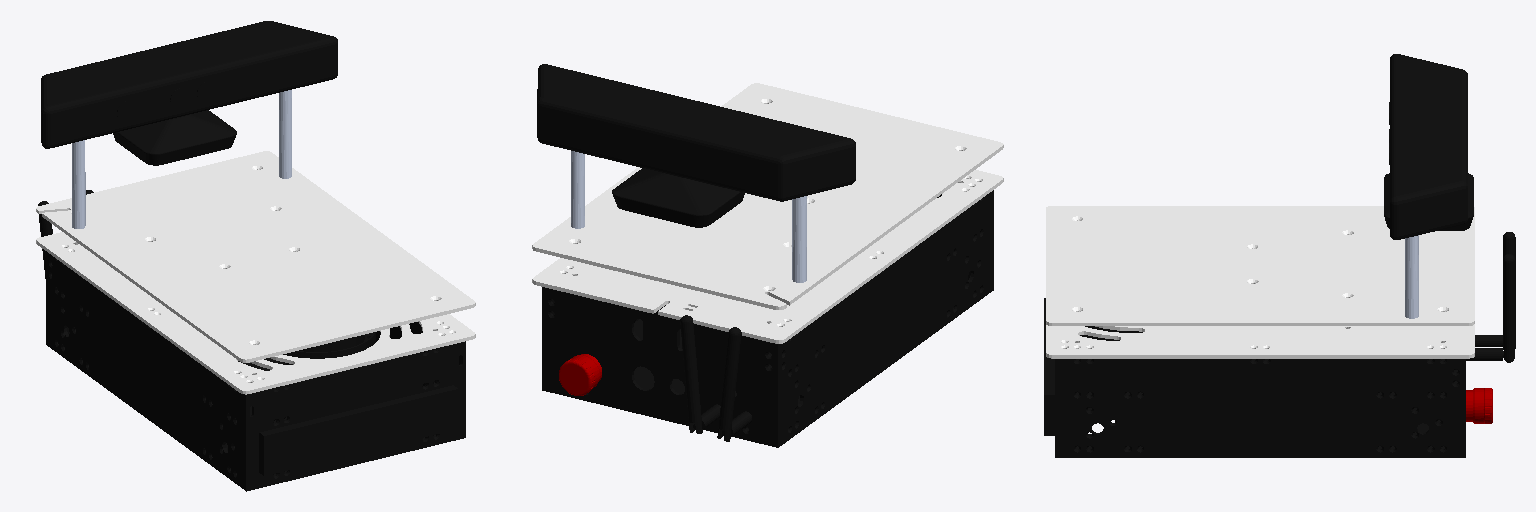
URDF robot description (mecanumbot):
<robot
  name="mecanumbot">
  <link
    name="base_link">
    <inertial>
      <origin
        xyz="-0.0468302529926084 -0.0134185737759999 -0.0824261310140349"
        rpy="0 0 0" />
      <mass
        value="0.963214943605585" />
      <inertia
        ixx="0.0134647040144989"
        ixy="-0.000265463820446584"
        ixz="-2.78747068323768E-05"
        iyy="0.00653225014173843"
        iyz="8.21292306097245E-05"
        izz="0.0182974601808885" />
    </inertial>
    <visual>
      <origin
        xyz="0 0 0"
        rpy="0 0 0" />
      <geometry>
        <mesh
          filename="package://mecanumbot/description/base_link.STL" />
      </geometry>
      <material
        name="">
        <color
          rgba="0.0980392156862745 0.0980392156862745 0.0980392156862745 1" />
      </material>
    </visual>
    <collision>
      <origin
        xyz="0 0 0"
        rpy="0 0 0" />
      <geometry>
        <mesh
          filename="package://mecanumbot/description/base_link.STL" />
      </geometry>
    </collision>
  </link>
  <link
    name="fl_wheel_link">
    <inertial>
      <origin
        xyz="0.02108 -8.5029E-07 3.7806E-05"
        rpy="0 0 0" />
      <mass
        value="0.33461" />
      <inertia
        ixx="0.00031908"
        ixy="4.8609E-07"
        ixz="2.8449E-07"
        iyy="0.0002658"
        iyz="-4.3138E-07"
        izz="0.00026633" />
    </inertial>
    <visual>
      <origin
        xyz="0 0 0"
        rpy="0 0 0" />
      <geometry>
        <mesh
          filename="package://mecanumbot/description/fl_wheel_link.STL" />
      </geometry>
      <material
        name="">
        <color
          rgba="0.5 0.5 0.5 1" />
      </material>
    </visual>
    <collision>
      <origin
        xyz="0 0 0"
        rpy="0 0 0" />
      <geometry>
        <mesh
          filename="package://mecanumbot/description/fl_wheel_link.STL" />
      </geometry>
    </collision>
  </link>
  <joint
    name="base_link_to_fl_wheel_joint"
    type="continuous">
    <origin
      xyz="0.0788531486544269 -0.147251192141458 -0.0851412158001636"
      rpy="1.5707963267949 0 0" />
    <parent
      link="base_link" />
    <child
      link="fl_wheel_link" />
    <axis
      xyz="-1 0 0" />
  </joint>
  <link
    name="fr_wheel_link">
    <inertial>
      <origin
        xyz="0.021164 5.4602E-06 -1.1653E-05"
        rpy="0 0 0" />
      <mass
        value="0.33461" />
      <inertia
        ixx="0.00031906"
        ixy="-1.3078E-07"
        ixz="9.0598E-08"
        iyy="0.00026623"
        iyz="2.618E-08"
        izz="0.00026621" />
    </inertial>
    <visual>
      <origin
        xyz="0 0 0"
        rpy="0 0 0" />
      <geometry>
        <mesh
          filename="package://mecanumbot/description/fr_wheel_link.STL" />
      </geometry>
      <material
        name="">
        <color
          rgba="0.5 0.5 0.5 1" />
      </material>
    </visual>
    <collision>
      <origin
        xyz="0 0 0"
        rpy="0 0 0" />
      <geometry>
        <mesh
          filename="package://mecanumbot/description/fr_wheel_link.STL" />
      </geometry>
    </collision>
  </link>
  <joint
    name="base_link_to_fr_wheel_joint"
    type="continuous">
    <origin
      xyz="-0.168291019374608 -0.147251192141458 -0.0851412158001628"
      rpy="2.08567039686228 0 3.14159265358979" />
    <parent
      link="base_link" />
    <child
      link="fr_wheel_link" />
    <axis
      xyz="1 0 0" />
  </joint>
  <link
    name="bl_wheel_link">
    <inertial>
      <origin
        xyz="0.021164 7.7945E-06 -6.7187E-06"
        rpy="0 0 0" />
      <mass
        value="0.33461" />
      <inertia
        ixx="0.00031906"
        ixy="-1.5891E-07"
        ixz="3.1125E-08"
        iyy="0.00026624"
        iyz="1.7121E-08"
        izz="0.0002662" />
    </inertial>
    <visual>
      <origin
        xyz="0 0 0"
        rpy="0 0 0" />
      <geometry>
        <mesh
          filename="package://mecanumbot/description/bl_wheel_link.STL" />
      </geometry>
      <material
        name="">
        <color
          rgba="0.5 0.5 0.5 1" />
      </material>
    </visual>
    <collision>
      <origin
        xyz="0 0 0"
        rpy="0 0 0" />
      <geometry>
        <mesh
          filename="package://mecanumbot/description/bl_wheel_link.STL" />
      </geometry>
    </collision>
  </link>
  <joint
    name="base_link_to_bl_wheel_joint"
    type="continuous">
    <origin
      xyz="0.0788180033333974 0.110748807858542 -0.0851412158001625"
      rpy="1.5707963267949 0 0" />
    <parent
      link="base_link" />
    <child
      link="bl_wheel_link" />
    <axis
      xyz="1 0 0" />
  </joint>
  <link
    name="br_wheel_link">
    <inertial>
      <origin
        xyz="0.02108 -3.0956E-06 3.2979E-05"
        rpy="0 0 0" />
      <mass
        value="0.33461" />
      <inertia
        ixx="0.00031908"
        ixy="5.1312E-07"
        ixz="3.4259E-07"
        iyy="0.00026578"
        iyz="-4.2237E-07"
        izz="0.00026634" />
    </inertial>
    <visual>
      <origin
        xyz="0 0 0"
        rpy="0 0 0" />
      <geometry>
        <mesh
          filename="package://mecanumbot/description/br_wheel_link.STL" />
      </geometry>
      <material
        name="">
        <color
          rgba="0.5 0.5 0.5 1" />
      </material>
    </visual>
    <collision>
      <origin
        xyz="0 0 0"
        rpy="0 0 0" />
      <geometry>
        <mesh
          filename="package://mecanumbot/description/br_wheel_link.STL" />
      </geometry>
    </collision>
  </link>
  <joint
    name="base_link_to_br_wheel_joint"
    type="continuous">
    <origin
      xyz="-0.168326164695638 0.110748807858543 -0.0851412158001639"
      rpy="2.07266866801634 0 3.14159265358979" />
    <parent
      link="base_link" />
    <child
      link="br_wheel_link" />
    <axis
      xyz="-1 0 0" />
  </joint>
  <link
    name="base_laser">
    <inertial>
      <origin
        xyz="-0.00610408561341411 4.74394690197499E-10 -0.0117846353165668"
        rpy="0 0 0" />
      <mass
        value="0.209244181201808" />
      <inertia
        ixx="0.000110184398375382"
        ixy="-2.0430212811893E-12"
        ixz="2.33665153595339E-05"
        iyy="0.000168161810285351"
        iyz="-2.0599988717986E-12"
        izz="0.000217623921858232" />
    </inertial>
    <visual>
      <origin
        xyz="0 0 0"
        rpy="0 0 0" />
      <geometry>
        <mesh
          filename="package://mecanumbot/description/base_laser.STL" />
      </geometry>
      <material
        name="">
        <color
          rgba="0.0980392156862745 0.0980392156862745 0.0980392156862745 1" />
      </material>
    </visual>
    <collision>
      <origin
        xyz="0 0 0"
        rpy="0 0 0" />
      <geometry>
        <mesh
          filename="package://mecanumbot/description/base_laser.STL" />
      </geometry>
    </collision>
  </link>
  <joint
    name="base_link_to_base_laser"
    type="fixed">
    <origin
      xyz="-0.0447365080206049 -0.117567277135445 -0.00506621580016293"
      rpy="0 -6.12303176911189E-17 -1.5707963267949" />
    <parent
      link="base_link" />
    <child
      link="base_laser" />
    <axis
      xyz="0 0 0" />
  </joint>
  <link
    name="mid_plate_link">
    <inertial>
      <origin
        xyz="1.6128E-05 0.0015881 -0.017739"
        rpy="0 0 0" />
      <mass
        value="0.23689" />
      <inertia
        ixx="0.002171"
        ixy="-2.3382E-12"
        ixz="-5.1294E-07"
        iyy="0.0032534"
        iyz="-1.6807E-08"
        izz="0.0010828" />
    </inertial>
    <visual>
      <origin
        xyz="0 0 0"
        rpy="0 0 0" />
      <geometry>
        <mesh
          filename="package://mecanumbot/description/mid_plate_link.STL" />
      </geometry>
      <material
        name="">
        <color
          rgba="1 1 1 0.3" />
      </material>
    </visual>
    <collision>
      <origin
        xyz="0 0 0"
        rpy="0 0 0" />
      <geometry>
        <mesh
          filename="package://mecanumbot/description/mid_plate_link.STL" />
      </geometry>
    </collision>
  </link>
  <joint
    name="base_link_to_mid_plate_link"
    type="fixed">
    <origin
      xyz="-0.0447365080206053 -0.0182511921414576 -0.0204662158001629"
      rpy="1.5707963267949 0 0" />
    <parent
      link="base_link" />
    <child
      link="mid_plate_link" />
    <axis
      xyz="0 0 0" />
  </joint>
  <link
    name="top_plate_supports">
    <inertial>
      <origin
        xyz="0.032556 -0.021976 6.3957E-07"
        rpy="0 0 0" />
      <mass
        value="0.011427" />
      <inertia
        ixx="0.00013177"
        ixy="6.8725E-11"
        ixz="1.7139E-11"
        iyy="5.4806E-05"
        iyz="-5.7899E-11"
        izz="0.00018539" />
    </inertial>
    <visual>
      <origin
        xyz="0 0 0"
        rpy="0 0 0" />
      <geometry>
        <mesh
          filename="package://mecanumbot/description/top_plate_supports.STL" />
      </geometry>
      <material
        name="">
        <color
          rgba="0.86667 0.9098 1 1" />
      </material>
    </visual>
    <collision>
      <origin
        xyz="0 0 0"
        rpy="0 0 0" />
      <geometry>
        <mesh
          filename="package://mecanumbot/description/top_plate_supports.STL" />
      </geometry>
    </collision>
  </link>
  <joint
    name="mid_plate_link_to_top_plate_supports"
    type="fixed">
    <origin
      xyz="-0.0325563676649805 0.015675 0.006161057906821"
      rpy="1.5707963267949 0 0" />
    <parent
      link="mid_plate_link" />
    <child
      link="top_plate_supports" />
    <axis
      xyz="0 0 0" />
  </joint>
  <link
    name="top_plate_link">
    <inertial>
      <origin
        xyz="-0.16966 0.00013265 -0.0015888"
        rpy="0 0 0" />
      <mass
        value="0.28331" />
      <inertia
        ixx="0.0011384"
        ixy="-5.8832E-06"
        ixz="-1.9222E-09"
        iyy="0.0027192"
        iyz="5.0491E-11"
        izz="0.0038572" />
    </inertial>
    <visual>
      <origin
        xyz="0 0 0"
        rpy="0 0 0" />
      <geometry>
        <mesh
          filename="package://mecanumbot/description/top_plate_link.STL" />
      </geometry>
      <material
        name="">
        <color
          rgba="1 1 1 0.3" />
      </material>
    </visual>
    <collision>
      <origin
        xyz="0 0 0"
        rpy="0 0 0" />
      <geometry>
        <mesh
          filename="package://mecanumbot/description/top_plate_link.STL" />
      </geometry>
    </collision>
  </link>
  <joint
    name="top_plate_supports_to_top_plate_link"
    type="fixed">
    <origin
      xyz="0.0325563676649805 0.163838942093179 -0.015675"
      rpy="3.14159265358979 -8.67361737988403E-17 1.5707963267949" />
    <parent
      link="top_plate_supports" />
    <child
      link="top_plate_link" />
    <axis
      xyz="0 0 0" />
  </joint>
  <link
    name="camera_supports">
    <inertial>
      <origin
        xyz="0.097 0.042365 2.7756E-17"
        rpy="0 0 0" />
      <mass
        value="0.041975" />
      <inertia
        ixx="2.3362E-05"
        ixy="7.0655E-23"
        ixz="8.4124E-20"
        iyy="0.00039559"
        iyz="-7.0524E-23"
        izz="0.0004183" />
    </inertial>
    <visual>
      <origin
        xyz="0 0 0"
        rpy="0 0 0" />
      <geometry>
        <mesh
          filename="package://mecanumbot/description/camera_supports.STL" />
      </geometry>
      <material
        name="">
        <color
          rgba="0.86667 0.9098 1 1" />
      </material>
    </visual>
    <collision>
      <origin
        xyz="0 0 0"
        rpy="0 0 0" />
      <geometry>
        <mesh
          filename="package://mecanumbot/description/camera_supports.STL" />
      </geometry>
    </collision>
  </link>
  <joint
    name="top_plate_link_to_camera_supports"
    type="fixed">
    <origin
      xyz="-0.29 -0.097 0"
      rpy="1.5707963267949 0 1.5707963267949" />
    <parent
      link="top_plate_link" />
    <child
      link="camera_supports" />
    <axis
      xyz="0 0 0" />
  </joint>
  <link
    name="camera_link">
    <inertial>
      <origin
        xyz="-0.029956 9.3245E-05 -0.0070276"
        rpy="0 0 0" />
      <mass
        value="0.69591" />
      <inertia
        ixx="0.0033836"
        ixy="1.7407E-06"
        ixz="5.1418E-06"
        iyy="0.00047859"
        iyz="4.5598E-07"
        izz="0.0033435" />
    </inertial>
    <visual>
      <origin
        xyz="0 0 0"
        rpy="0 0 0" />
      <geometry>
        <mesh
          filename="package://mecanumbot/description/camera_link.STL" />
      </geometry>
      <material
        name="">
        <color
          rgba="0.098039 0.098039 0.098039 1" />
      </material>
    </visual>
    <collision>
      <origin
        xyz="0 0 0"
        rpy="0 0 0" />
      <geometry>
        <mesh
          filename="package://mecanumbot/description/camera_link.STL" />
      </geometry>
    </collision>
  </link>
  <joint
    name="camera_supports_to_camera_link"
    type="fixed">
    <origin
      xyz="0.097 0.10242 0.0175000000000002"
      rpy="-1.5707963267949 -1.5707963267949 0" />
    <parent
      link="camera_supports" />
    <child
      link="camera_link" />
    <axis
      xyz="0 0 0" />
  </joint>
  <link
    name="e_stop">
    <inertial>
      <origin
        xyz="3.4694E-18 0.0063686 0"
        rpy="0 0 0" />
      <mass
        value="0.016321" />
      <inertia
        ixx="2.4638E-06"
        ixy="6.2017E-22"
        ixz="-2.6181E-22"
        iyy="1.3157E-06"
        iyz="-1.9965E-22"
        izz="2.4638E-06" />
    </inertial>
    <visual>
      <origin
        xyz="0 0 0"
        rpy="0 0 0" />
      <geometry>
        <mesh
          filename="package://mecanumbot/description/e_stop.STL" />
      </geometry>
      <material
        name="">
        <color
          rgba="0.7 0 0 1" />
      </material>
    </visual>
    <collision>
      <origin
        xyz="0 0 0"
        rpy="0 0 0" />
      <geometry>
        <mesh
          filename="package://mecanumbot/description/e_stop.STL" />
      </geometry>
    </collision>
  </link>
  <joint
    name="base_link_to_e_stop"
    type="fixed">
    <origin
      xyz="0.0184384919793947 0.144923807858542 -0.0836412158001629"
      rpy="-6.12303176911189E-17 0 0" />
    <parent
      link="base_link" />
    <child
      link="e_stop" />
    <axis
      xyz="0 0 0" />
  </joint>
</robot>

--- Facts derived from the render (not from the file) ---
The picture shows the robot from 3 angles, left to right: view 1: azimuth 30°, elevation 25°; view 2: azimuth 150°, elevation 25°; view 3: azimuth 270°, elevation 25°; orthographic projection.
Model mecanumbot with 12 links and 11 joints (4 continuous, 7 fixed), rooted at base_link, posed all joints at 0.
Visible links, largest first — view 1: top_plate_link, base_link, camera_link, mid_plate_link, camera_supports, base_laser; view 2: base_link, top_plate_link, camera_link, mid_plate_link, camera_supports, e_stop; view 3: top_plate_link, base_link, camera_link, mid_plate_link, camera_supports, e_stop.
Link boxes in pixels (x1,y1,x2,y2): top_plate_link: (36, 151, 475, 362); base_link: (38, 190, 465, 491); camera_link: (41, 21, 337, 165); mid_plate_link: (36, 232, 475, 394); camera_supports: (72, 90, 291, 228); base_laser: (283, 332, 375, 364); base_link: (542, 190, 993, 447); top_plate_link: (532, 83, 1003, 309); camera_link: (537, 64, 855, 227); mid_plate_link: (532, 170, 1003, 343); camera_supports: (571, 151, 806, 282); e_stop: (559, 354, 601, 395); top_plate_link: (1046, 206, 1474, 325); base_link: (1044, 232, 1515, 457); camera_link: (1384, 54, 1473, 239); mid_plate_link: (1046, 324, 1474, 358); camera_supports: (1405, 235, 1418, 318); e_stop: (1466, 388, 1492, 423).
Size in the robot's own frame: 0.2768 by 0.3733 by 0.2431 metres.
7 mesh visuals loaded from 12 distinct referenced files (7 binary STL); not drawn: 5 (reference not matched to a file when rendering).